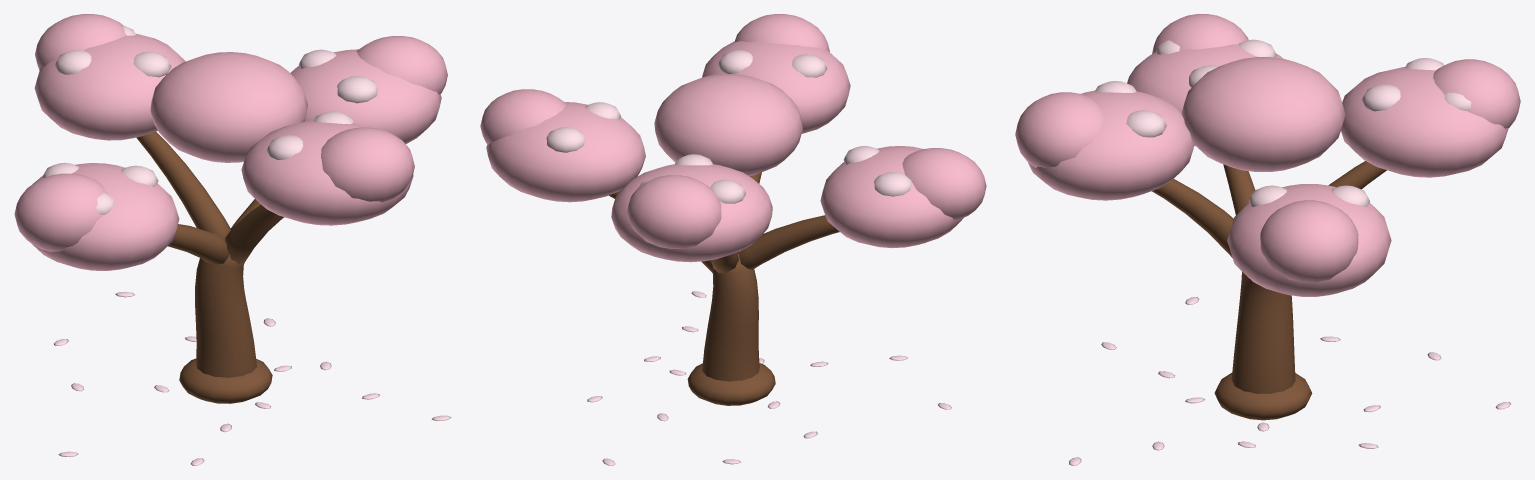
Rendered from cherry-tree.glb.
3 renders of one model, left to right at view 1: azimuth 30°, elevation 25°; view 2: azimuth 150°, elevation 25°; view 3: azimuth 270°, elevation 25°, orthographic. The views are drawn at different scales.
Parts seen in each view (by area): view 1: canopy, trunk, petals; view 2: canopy, trunk, petals; view 3: canopy, trunk, petals.
Part boxes in pixels (<box>): canopy: <box>14,14,447,270</box>; trunk: <box>136,131,284,403</box>; petals: <box>54,291,451,465</box>; canopy: <box>480,14,986,262</box>; trunk: <box>609,172,839,405</box>; petals: <box>587,291,951,465</box>; canopy: <box>1015,14,1520,296</box>; trunk: <box>1152,161,1386,420</box>; petals: <box>1069,297,1510,465</box>.
Size of the model in its own units: 2.89 by 1.94 by 2.58.
